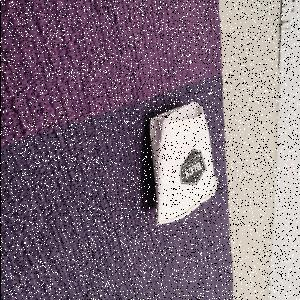Cup: (149, 102, 219, 226)
